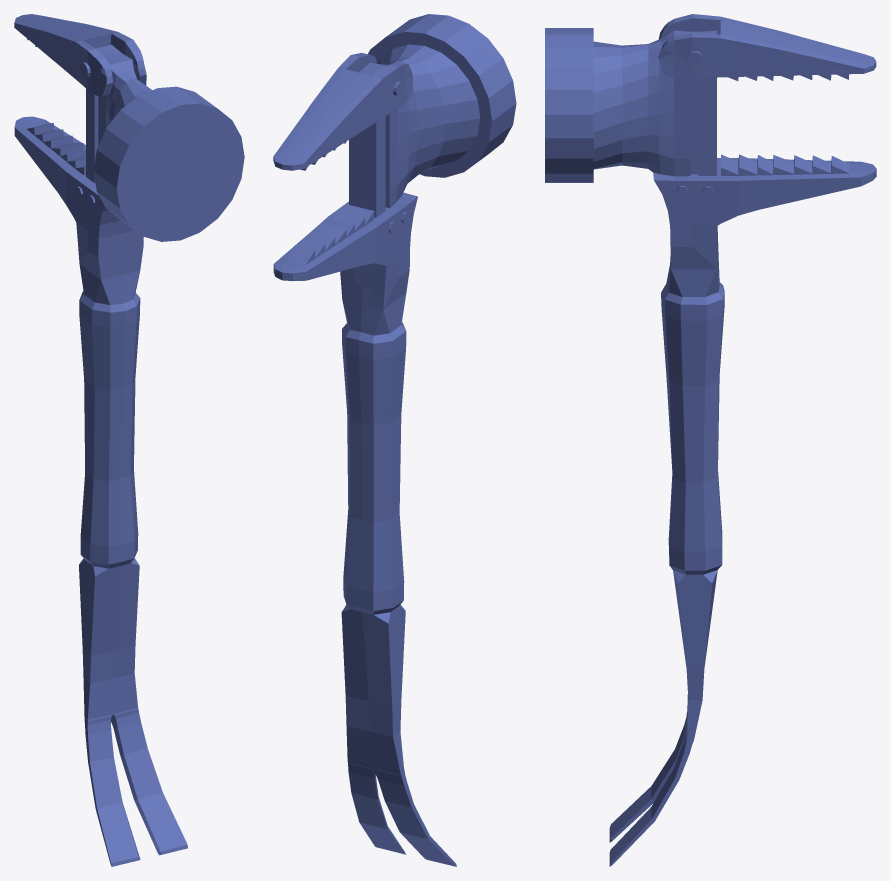
File: lockpick-lopoly.fbx
The picture shows the model from 3 angles, left to right: view 1: azimuth 30°, elevation 25°; view 2: azimuth 150°, elevation 25°; view 3: azimuth 270°, elevation 25°; orthographic projection. The views are drawn at different scales.
Parts seen in each view (by area): view 1: lo-poly-tool; view 2: lo-poly-tool; view 3: lo-poly-tool.
Part boxes in pixels (bbox=[...]): lo-poly-tool: bbox=[14, 14, 244, 866]; lo-poly-tool: bbox=[273, 14, 516, 866]; lo-poly-tool: bbox=[545, 14, 876, 866].
Size of the model in its own units: 15.77 by 92.33 by 33.77.
